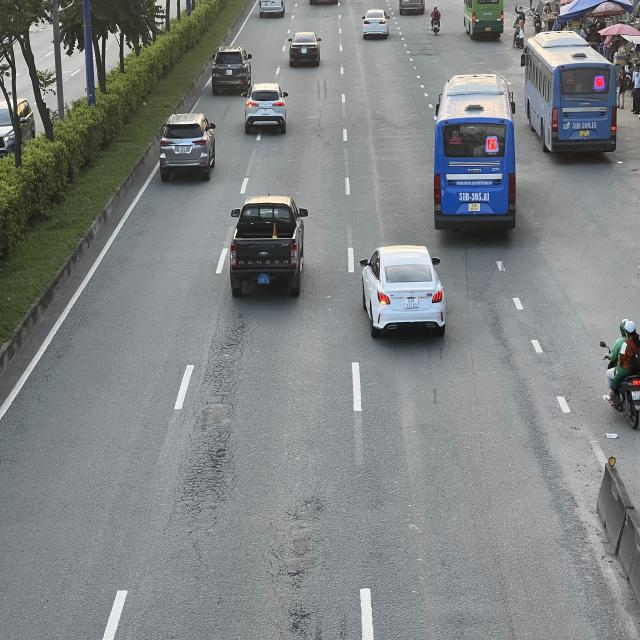car: (358, 246, 445, 342), (229, 196, 309, 295), (160, 113, 220, 181), (244, 84, 291, 138), (209, 46, 253, 93), (287, 30, 322, 67), (360, 10, 391, 40)
coach: (433, 74, 515, 232), (522, 32, 619, 156), (463, 0, 505, 39)
